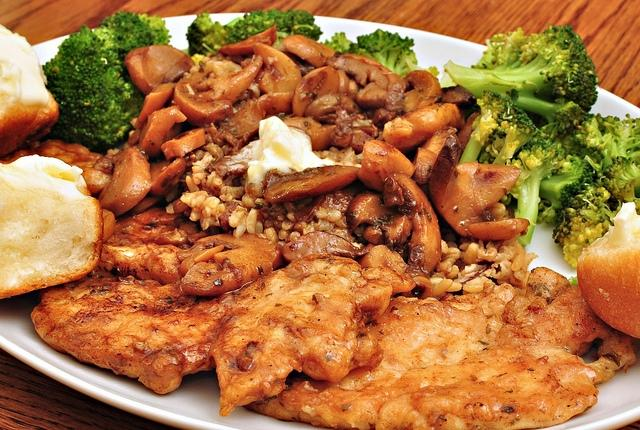broccoli: (42, 10, 172, 152), (443, 24, 599, 139), (552, 113, 640, 216), (506, 121, 566, 249), (552, 179, 623, 268), (536, 154, 599, 226), (226, 8, 322, 46), (349, 29, 417, 78), (185, 10, 245, 57), (492, 124, 538, 164), (476, 90, 506, 120), (319, 32, 353, 52)
mushroom: (428, 132, 530, 240), (383, 172, 442, 274), (261, 164, 360, 204), (382, 103, 466, 149), (98, 147, 152, 218), (124, 45, 196, 96), (240, 43, 302, 94), (174, 75, 234, 127), (357, 140, 415, 192), (282, 231, 375, 263), (136, 105, 186, 156), (213, 56, 263, 106), (292, 66, 340, 118), (326, 56, 388, 90), (134, 82, 176, 130), (218, 24, 278, 56), (346, 194, 402, 228), (217, 98, 262, 140), (280, 35, 336, 68), (403, 70, 442, 113), (438, 84, 480, 121), (161, 127, 206, 160), (147, 158, 185, 196)
